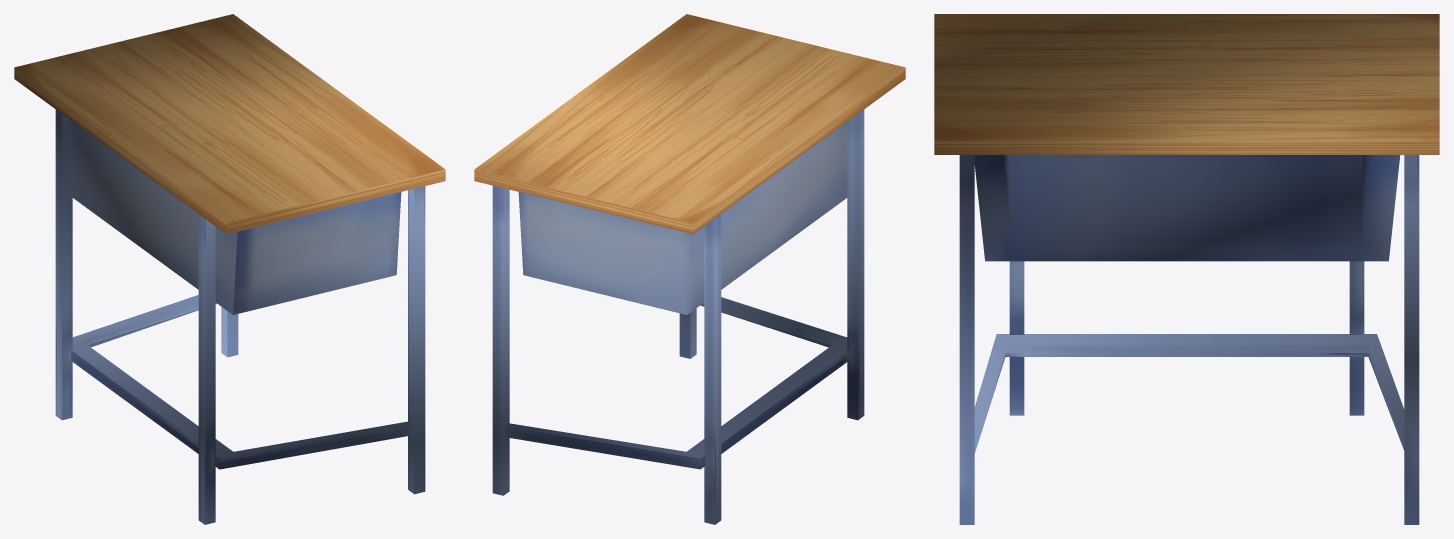
The model's file is toh-nor.fbx.
3 renders of one model, left to right at view 1: azimuth 30°, elevation 25°; view 2: azimuth 150°, elevation 25°; view 3: azimuth 270°, elevation 25°, orthographic. The views are drawn at different scales.
Parts seen in each view (by area): view 1: Cube, Cube.002; view 2: Cube, Cube.002; view 3: Cube.002, Cube.
Boxes of the visible parts, x1,y1,x2,y2 form: Cube: (14, 14, 445, 234); Cube.002: (55, 109, 425, 524); Cube: (474, 14, 905, 234); Cube.002: (492, 109, 864, 524); Cube.002: (959, 155, 1419, 524); Cube: (934, 14, 1439, 154).
Size of the model in its own units: 203 by 291 by 341.
Materials: 1 (1 with a texture image).
